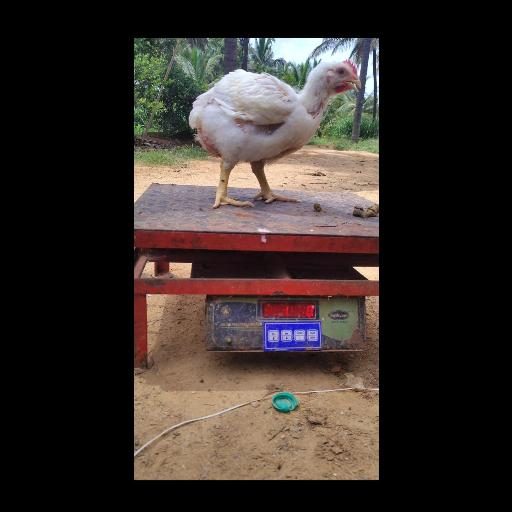chick: (189, 60, 361, 207)
